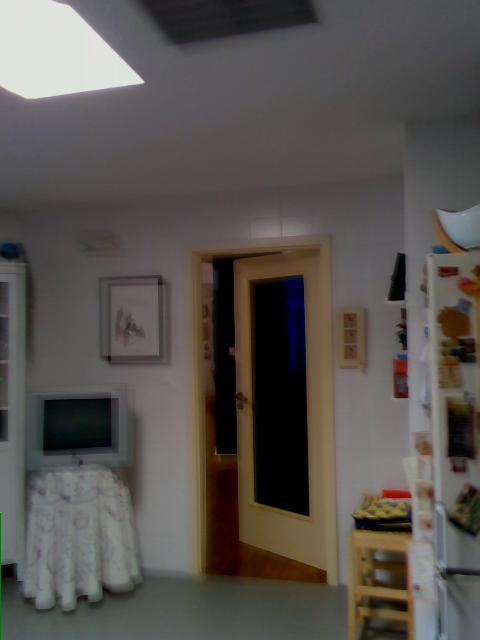semi_door: (185, 233, 342, 588)
